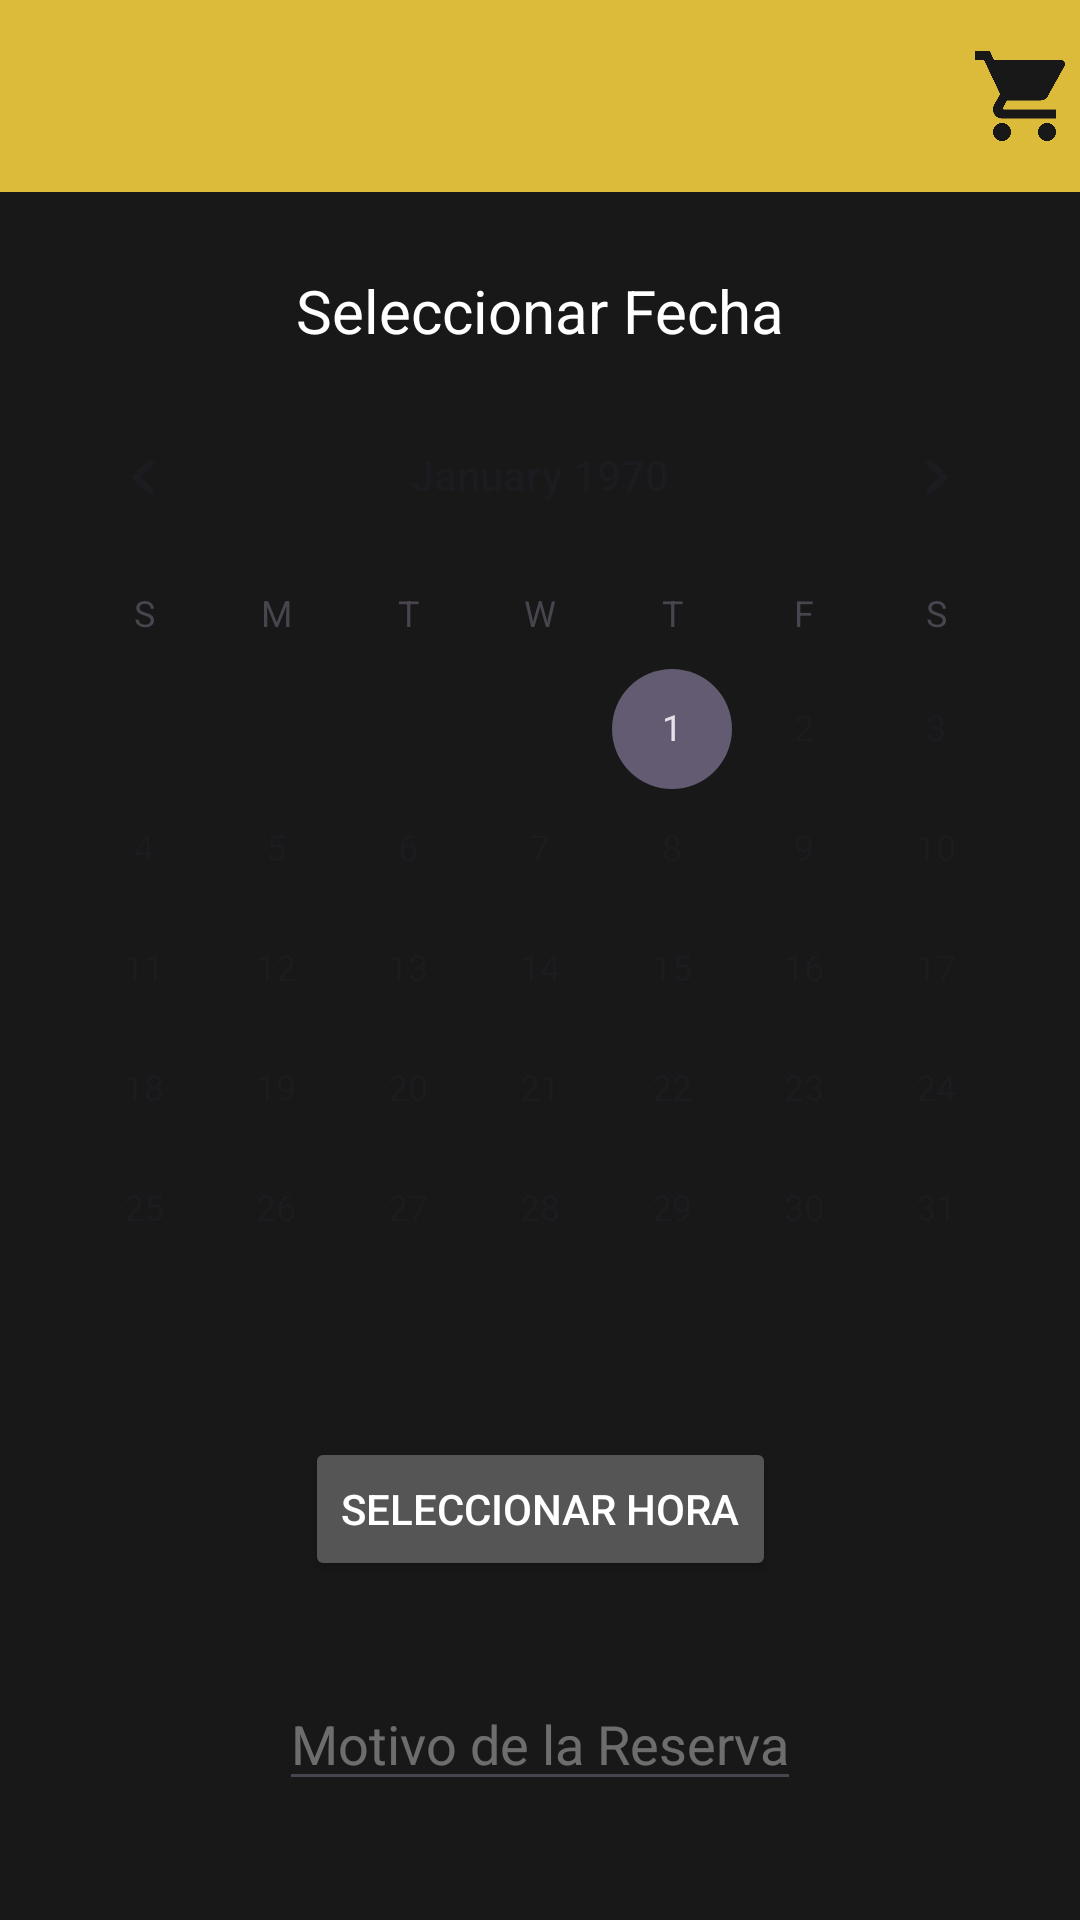

Screen size 1080*1920. Icon name, then its box in pixels as [x1=x1, y1=y1, x2=x2, y2=y2]:
carro: [x1=975, y1=51, x2=1065, y2=141]
